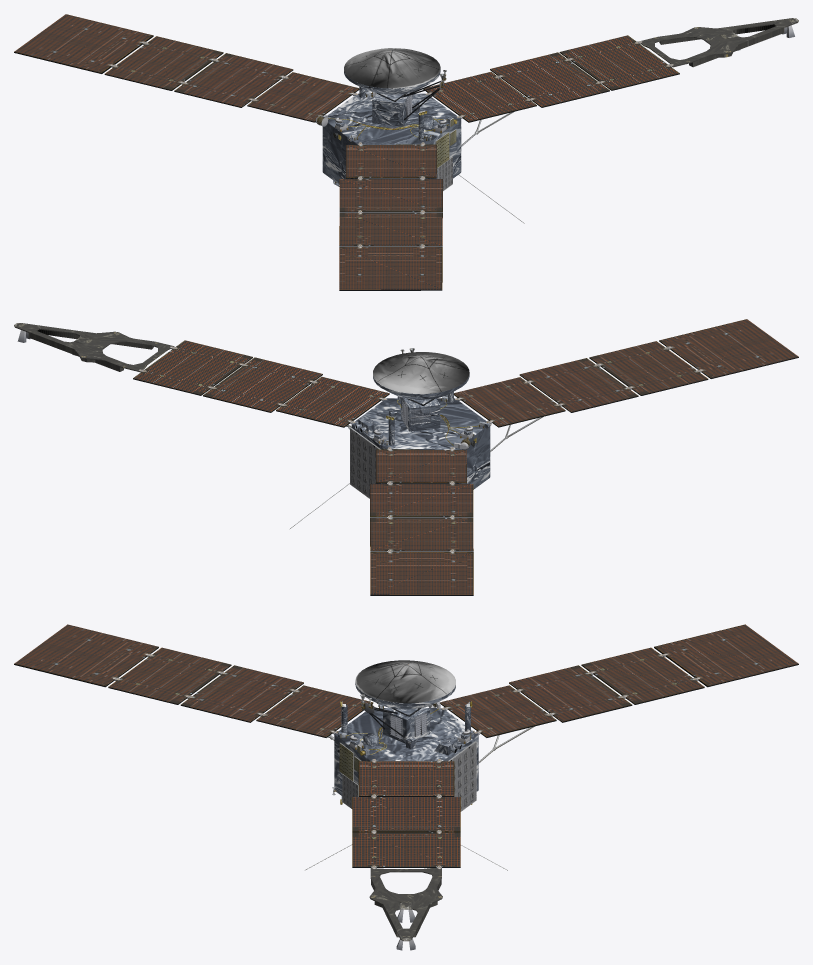
The model's file is Juno.obj.
3 renders of one model, top to bottom at view 1: azimuth 30°, elevation 25°; view 2: azimuth 150°, elevation 25°; view 3: azimuth 270°, elevation 25°, orthographic. The views are drawn at different scales.
Parts seen in each view (by area): view 1: shiny_panels_Geometry-Body.021, silver_foil_Geometry-Body.002, dish_top_2_Geometry-Mesh.003, solar_panels_Geometry-Body.006, tex_01_Geometry-Body.003, black_krinkle_Geometry-Body.007, dish_bottom_Geometry-Mesh; view 2: shiny_panels_Geometry-Body.021, silver_foil_Geometry-Body.002, dish_top_2_Geometry-Mesh.003, tex_01_Geometry-Body.003, solar_panels_Geometry-Body.006, black_krinkle_Geometry-Body.007; view 3: shiny_panels_Geometry-Body.021, silver_foil_Geometry-Body.002, tex_01_Geometry-Body.003, dish_top_2_Geometry-Mesh.003, solar_panels_Geometry-Body.006, black_krinkle_Geometry-Body.007.
Part boxes in pixels (bbox=[...]): shiny_panels_Geometry-Body.021: bbox=[14, 14, 679, 289]; silver_foil_Geometry-Body.002: bbox=[322, 87, 461, 186]; dish_top_2_Geometry-Mesh.003: bbox=[344, 48, 440, 88]; solar_panels_Geometry-Body.006: bbox=[639, 18, 798, 67]; tex_01_Geometry-Body.003: bbox=[110, 25, 794, 247]; black_krinkle_Geometry-Body.007: bbox=[14, 36, 679, 290]; dish_bottom_Geometry-Mesh: bbox=[344, 69, 440, 94]; shiny_panels_Geometry-Body.021: bbox=[133, 319, 798, 594]; silver_foil_Geometry-Body.002: bbox=[351, 391, 490, 489]; dish_top_2_Geometry-Mesh.003: bbox=[373, 352, 469, 393]; tex_01_Geometry-Body.003: bbox=[17, 330, 702, 552]; solar_panels_Geometry-Body.006: bbox=[14, 323, 173, 371]; black_krinkle_Geometry-Body.007: bbox=[133, 340, 798, 595]; shiny_panels_Geometry-Body.021: bbox=[14, 624, 798, 866]; silver_foil_Geometry-Body.002: bbox=[334, 704, 478, 800]; tex_01_Geometry-Body.003: bbox=[112, 653, 699, 950]; dish_top_2_Geometry-Mesh.003: bbox=[355, 660, 455, 702]; solar_panels_Geometry-Body.006: bbox=[369, 868, 442, 941]; black_krinkle_Geometry-Body.007: bbox=[14, 647, 798, 867].
Size of the model in its own units: 17.65 by 4.26 by 18.54.
9 materials, 9 textured.
